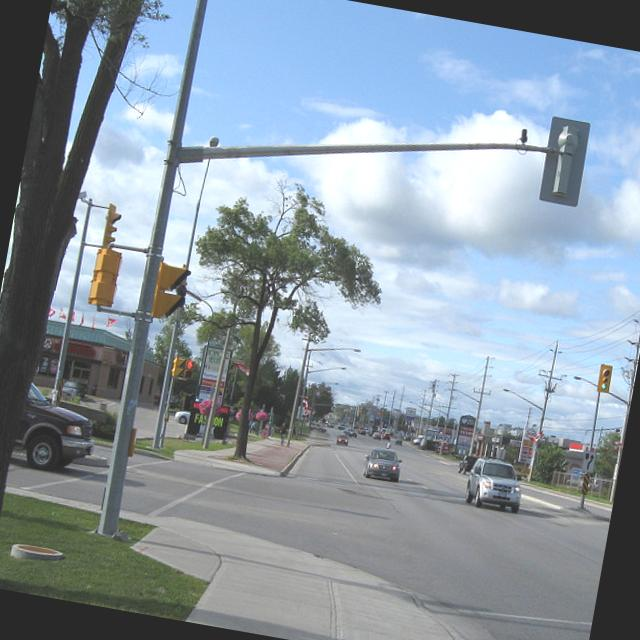Vehicle: (11, 378, 102, 479), (463, 455, 528, 515), (360, 445, 404, 483), (59, 378, 88, 401), (457, 453, 478, 476), (172, 408, 190, 424), (335, 433, 349, 446), (412, 433, 425, 446), (371, 430, 383, 440), (380, 432, 390, 442), (348, 431, 358, 438)
